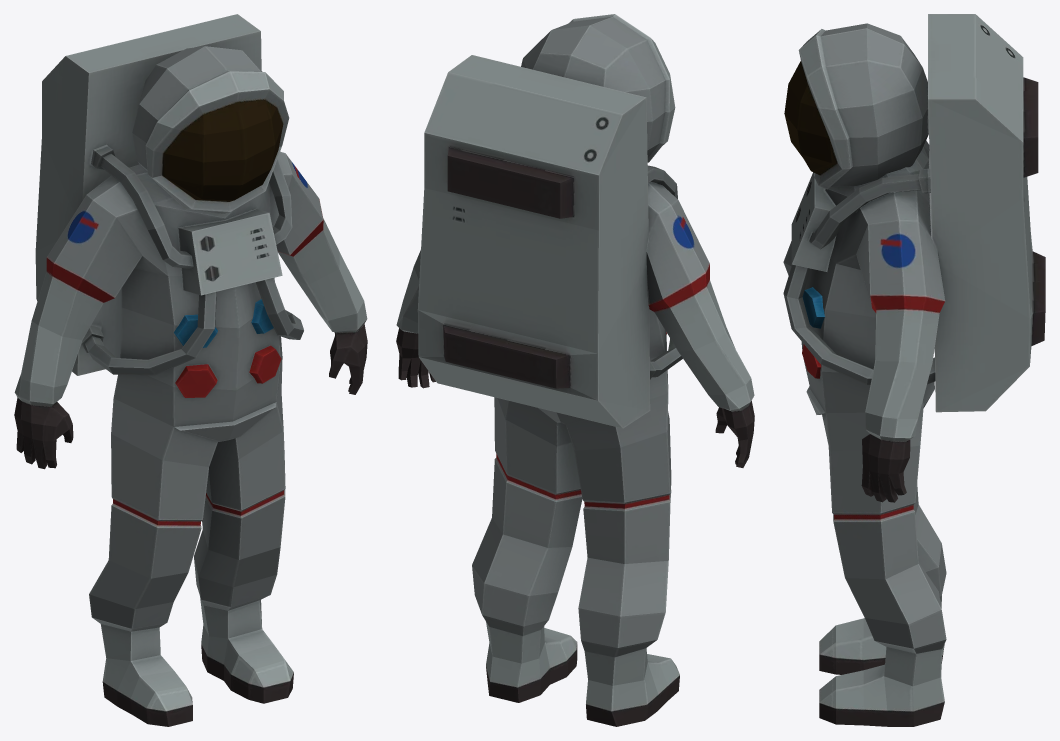
The model's file is astronaut.glb.
3 renders of one model, left to right at view 1: azimuth 30°, elevation 25°; view 2: azimuth 150°, elevation 25°; view 3: azimuth 270°, elevation 25°, orthographic.
Parts seen in each view (by area): view 1: node-0; view 2: node-0; view 3: node-0.
Part boxes in pixels (x1,y1,x2,y2): node-0: [14, 14, 367, 726]; node-0: [396, 14, 754, 726]; node-0: [783, 14, 1045, 726].
Size of the model in its own units: 1.12 by 2.01 by 0.7235.
1 material, 1 textured.
